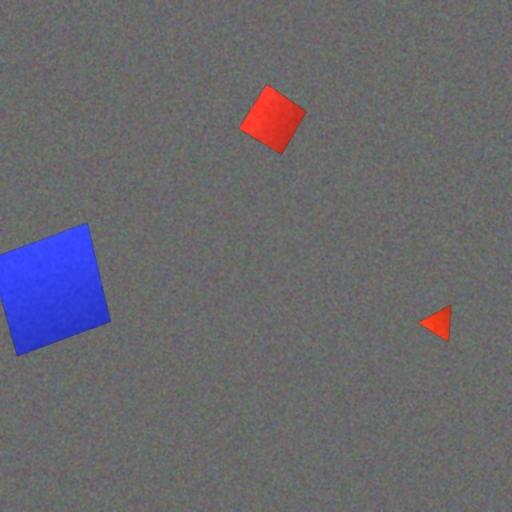BLUE_SQUARE: (0, 222, 111, 358)
RED_SQUARE: (238, 83, 308, 155)
